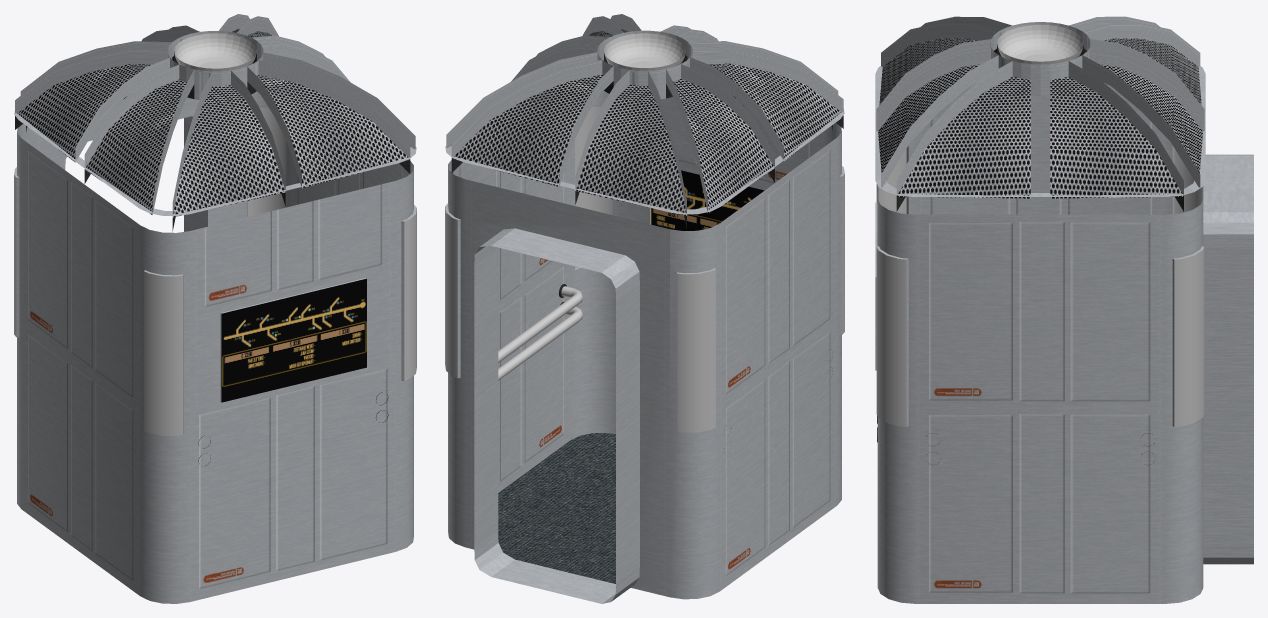
File: MonitorTurbolift.fbx
3 views of the same model, side by side, from view 1: azimuth 30°, elevation 25°; view 2: azimuth 150°, elevation 25°; view 3: azimuth 270°, elevation 25° (orthographic). The views are drawn at different scales.
Visible parts, largest first — view 1: Cube.011, Cube.001; view 2: Cube.011, Cube.001; view 3: Cube.011, Cube.001.
Boxes of the visible parts, box(x1,y1,x2,y2) form: Cube.011: box(14, 91, 416, 603); Cube.001: box(15, 14, 415, 231); Cube.011: box(445, 90, 844, 603); Cube.001: box(446, 14, 843, 229); Cube.011: box(875, 66, 1253, 603); Cube.001: box(876, 16, 1204, 211).
Bounding box in the file's own units: 664 × 1077 × 755.
